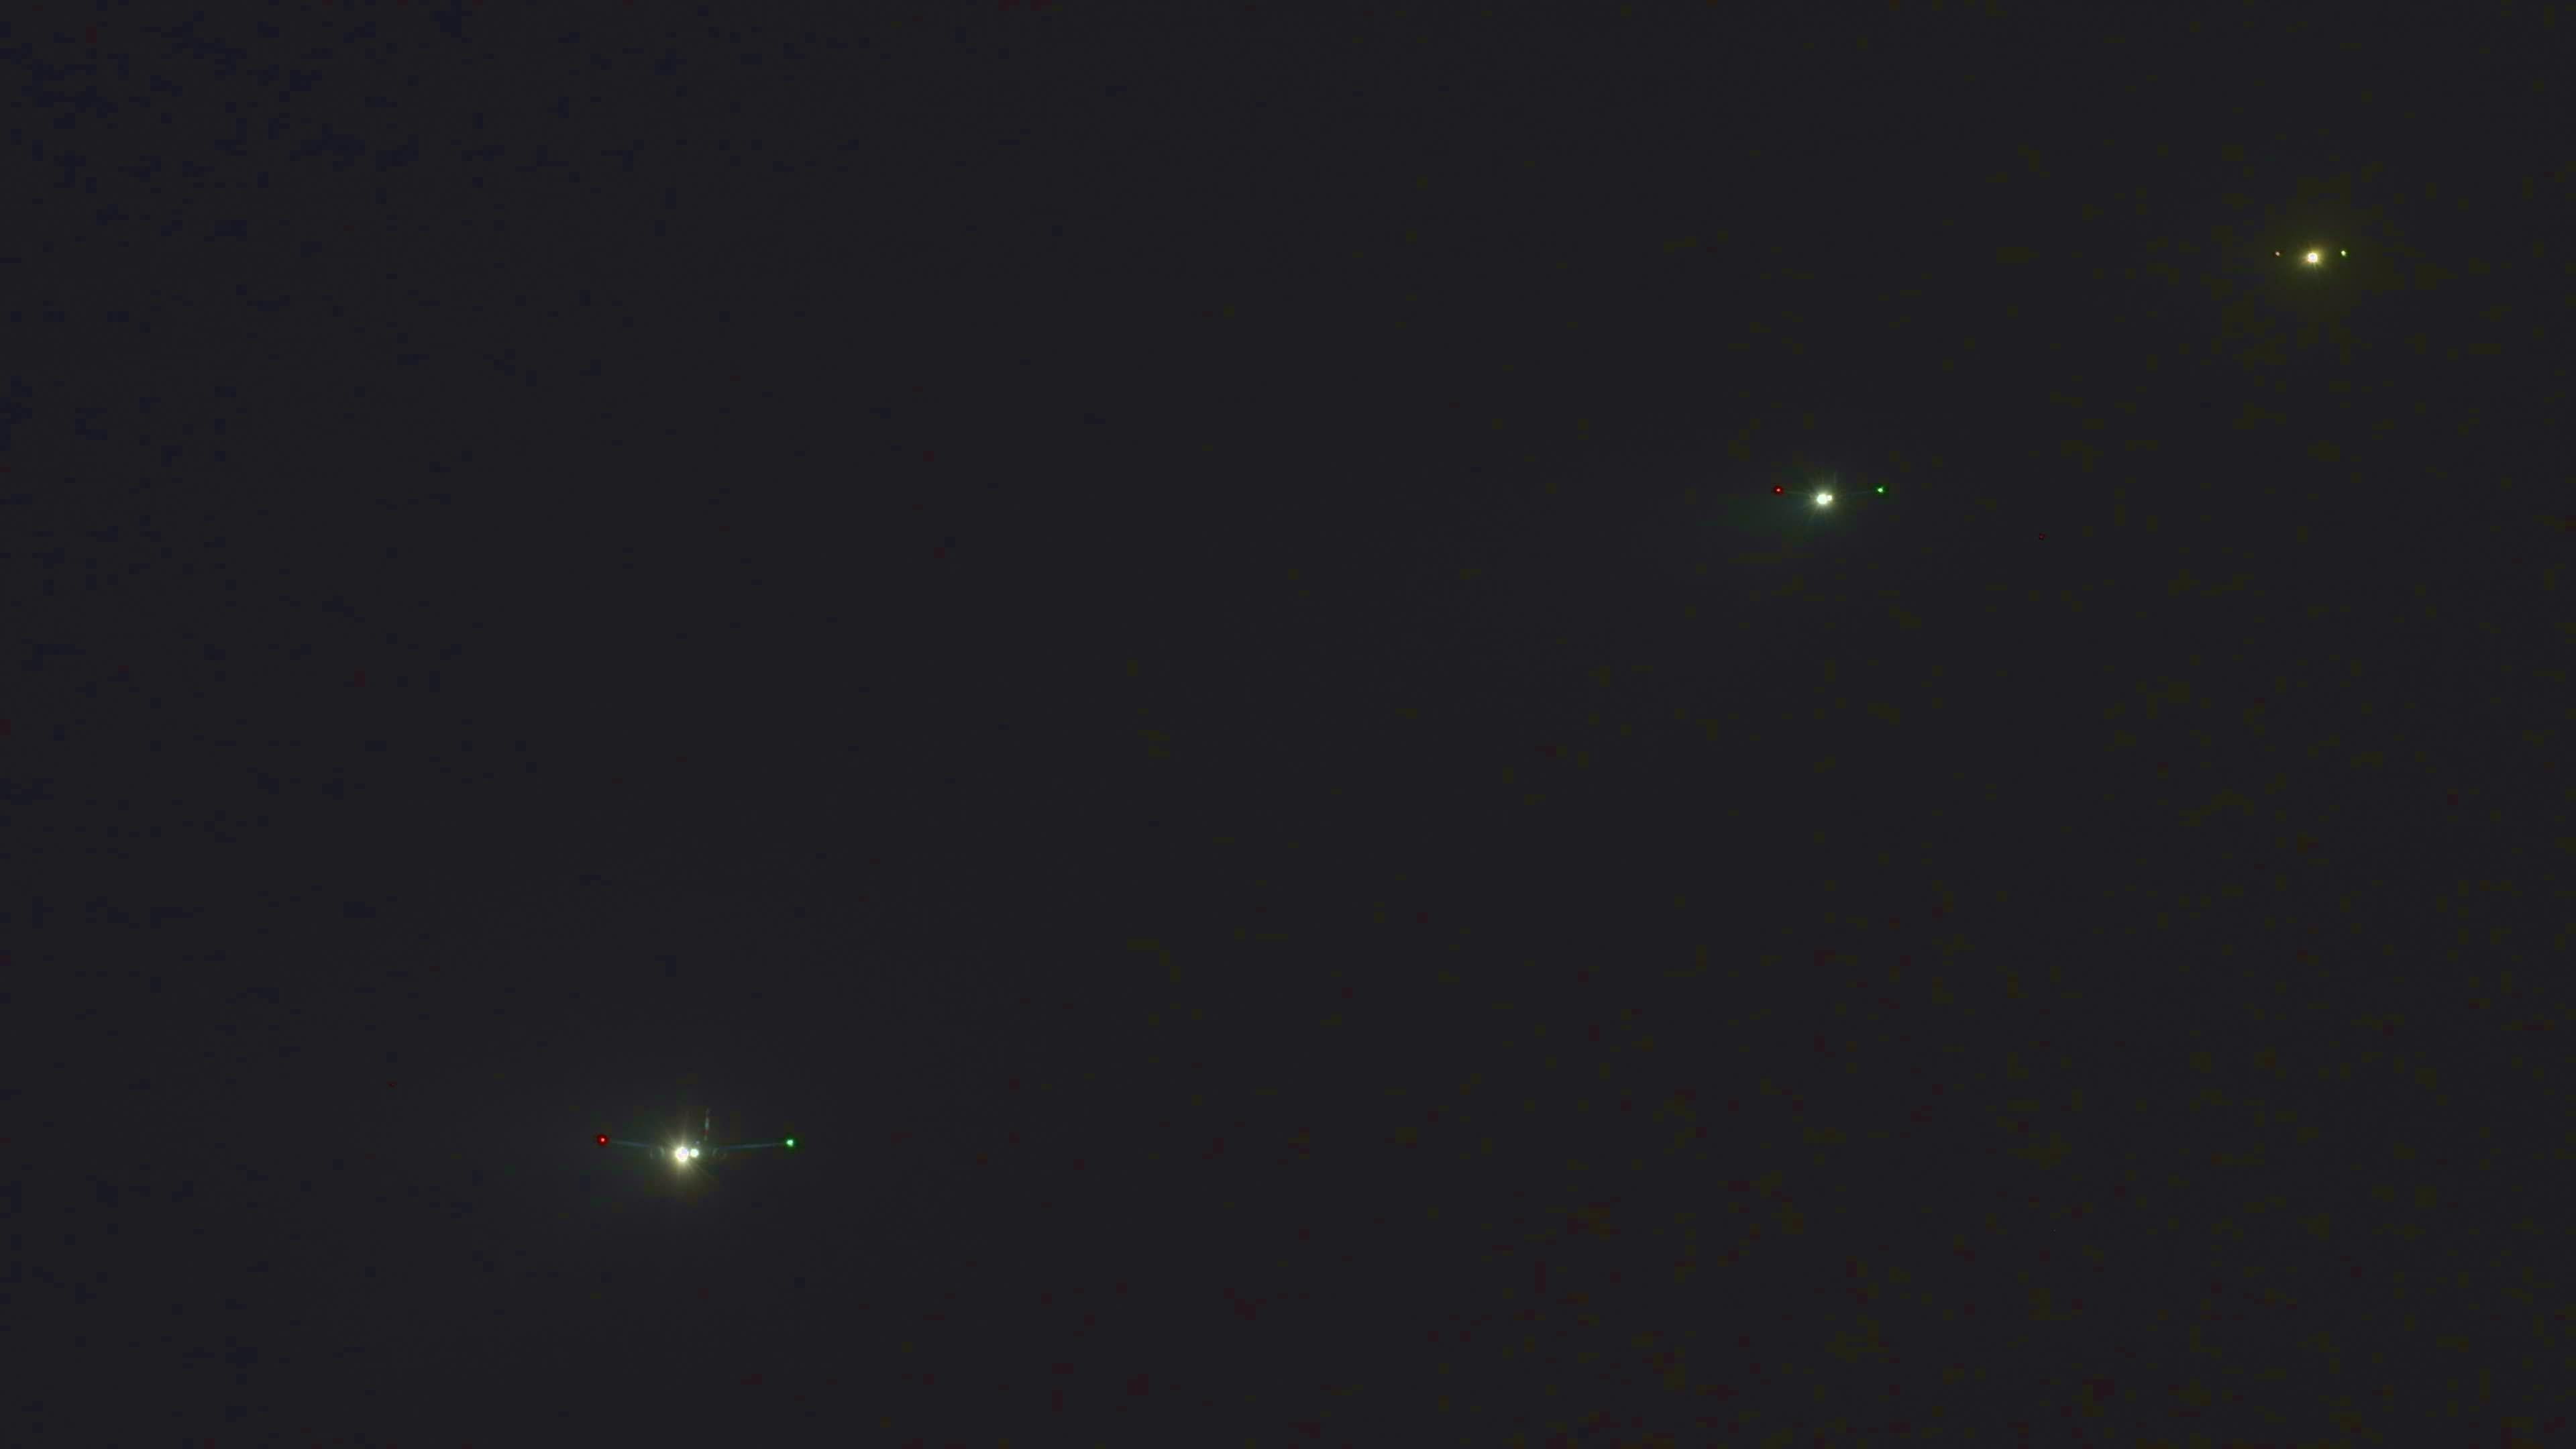Plane: (533, 1085, 863, 1191), (1757, 451, 1925, 540), (2247, 228, 2390, 283)
